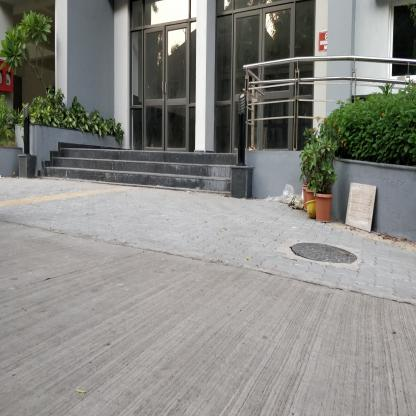stairs: (61, 151, 229, 194)
